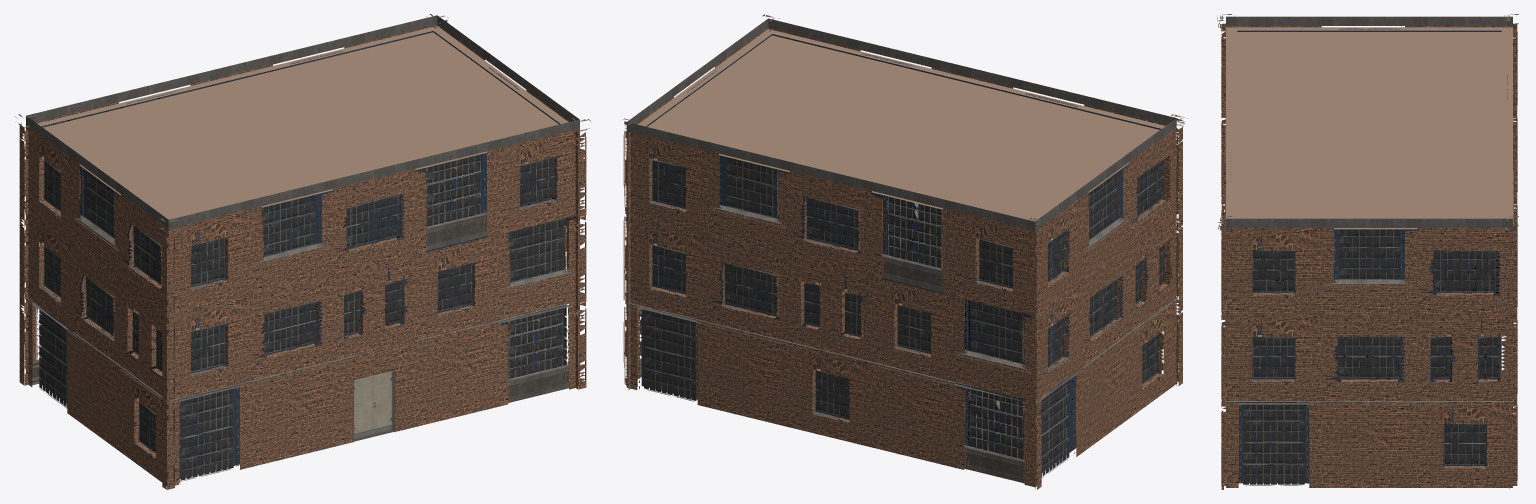
Rendered from factory_a.glb.
3 views of the same model, side by side, from view 1: azimuth 30°, elevation 25°; view 2: azimuth 150°, elevation 25°; view 3: azimuth 270°, elevation 25° (orthographic).
Visible parts, largest first — view 1: building; view 2: building; view 3: building.
Part boxes in pixels (left/top/right/bottom): building: left=14, top=14, right=590, bottom=489; building: left=622, top=14, right=1188, bottom=489; building: left=1217, top=14, right=1518, bottom=489.
Bounding box in the file's own units: 15.56 × 9.33 × 9.56.
Materials: 6 (6 with a texture image).
